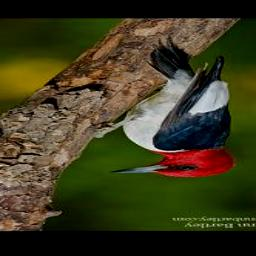Woodpecker: (83, 35, 245, 177)
